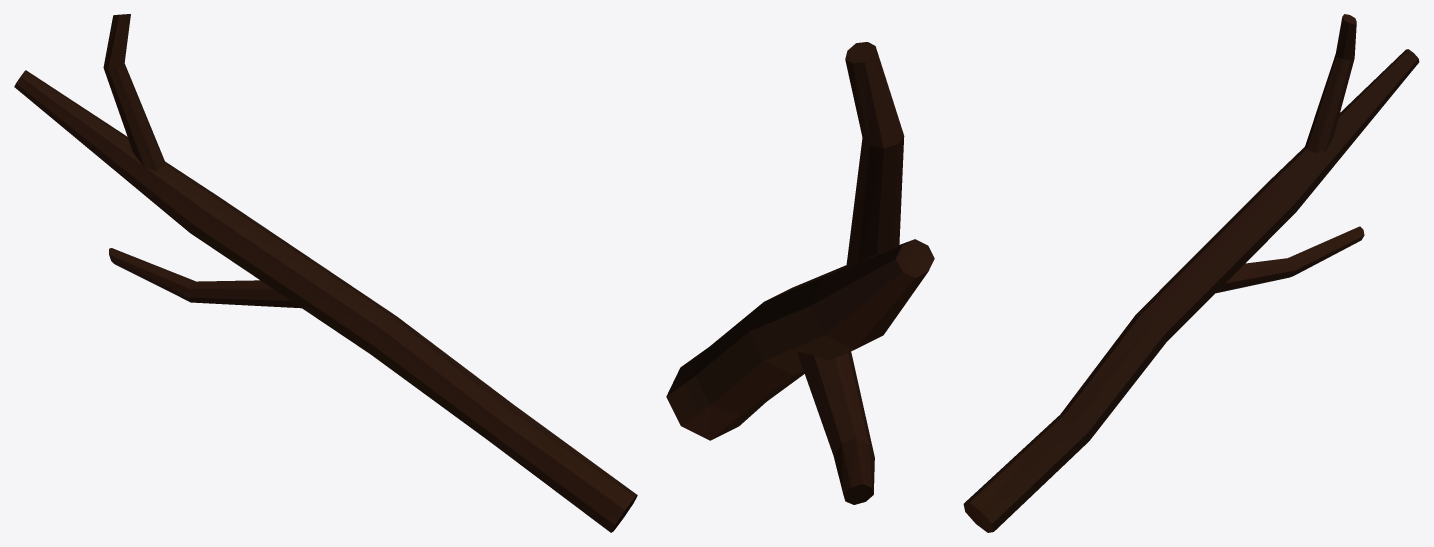
File: MOD STICK.fbx
3 renders of one model, left to right at view 1: azimuth 30°, elevation 25°; view 2: azimuth 150°, elevation 25°; view 3: azimuth 270°, elevation 25°, orthographic. The views are drawn at different scales.
Parts seen in each view (by area): view 1: MOD_STICK; view 2: MOD_STICK; view 3: MOD_STICK.
Part boxes in pixels (x1,y1,x2,y2): MOD_STICK: (14, 14, 637, 532); MOD_STICK: (666, 42, 934, 504); MOD_STICK: (963, 14, 1419, 532).
Size of the model in its own units: 28.46 by 31.19 by 32.91.
